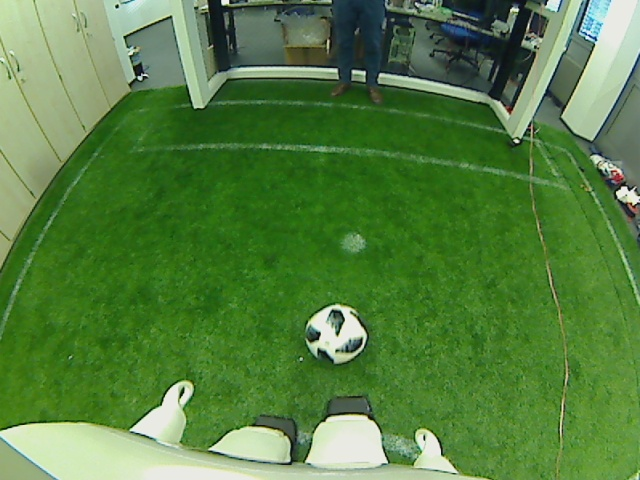ball: (302, 302, 368, 365)
